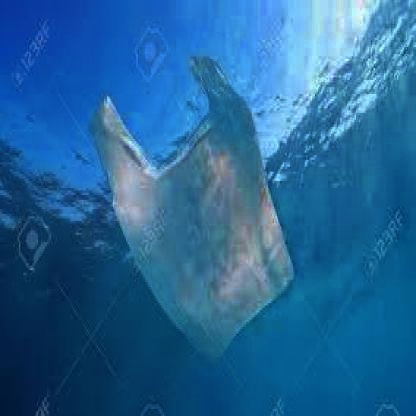pbag: (88, 54, 296, 367)
